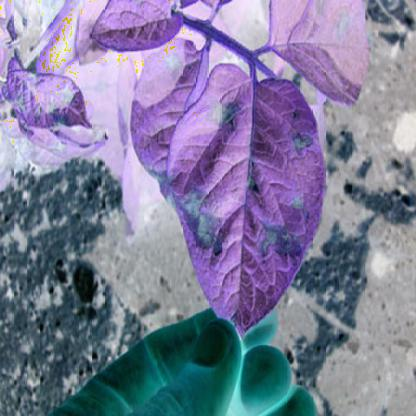Potato leaf late blight: (164, 58, 327, 336)
